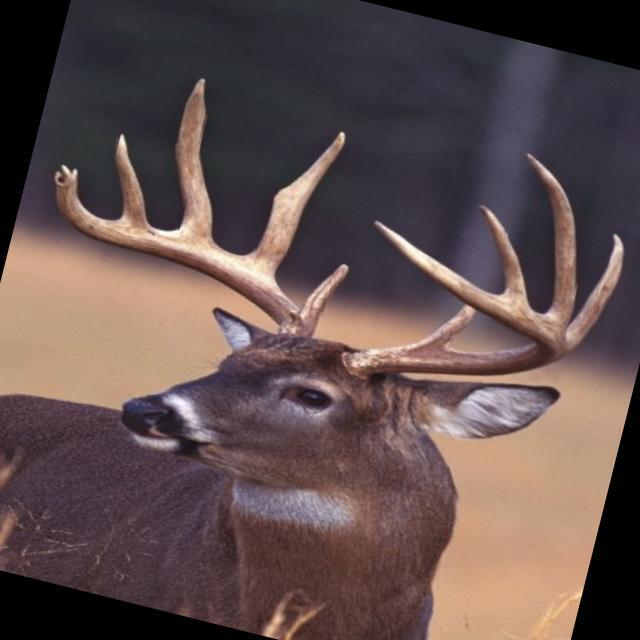L-F: (345, 219, 567, 375)
L-G1: (416, 305, 475, 346)
L-G2: (565, 232, 626, 354)
L-G3: (523, 151, 577, 323)
L-G4: (478, 204, 530, 307)
R-F: (54, 164, 313, 333)
R-G1: (299, 263, 349, 325)
R-G2: (249, 130, 346, 275)
R-G3: (173, 77, 213, 238)
R-G4: (111, 133, 151, 228)
